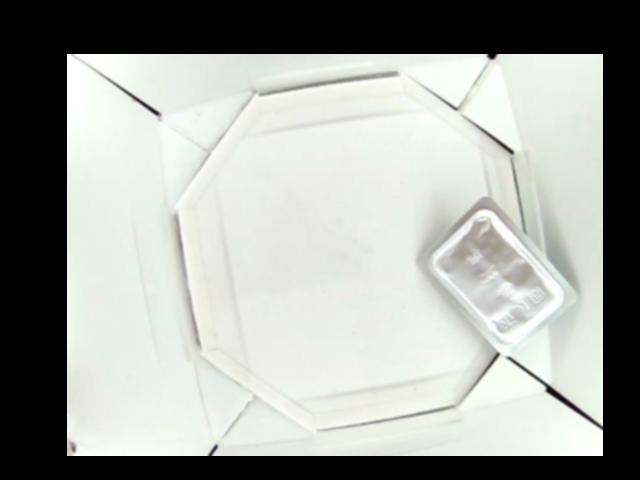Medicine: (417, 196, 575, 358)
